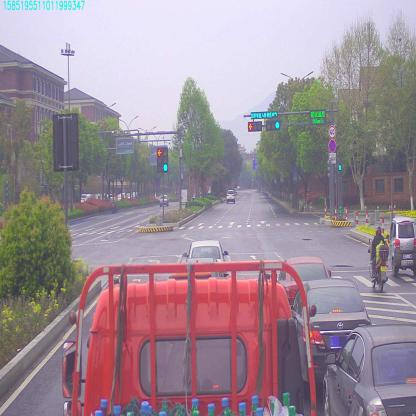traffic-light: (249, 111, 278, 119), (247, 120, 261, 130), (267, 121, 279, 130)
